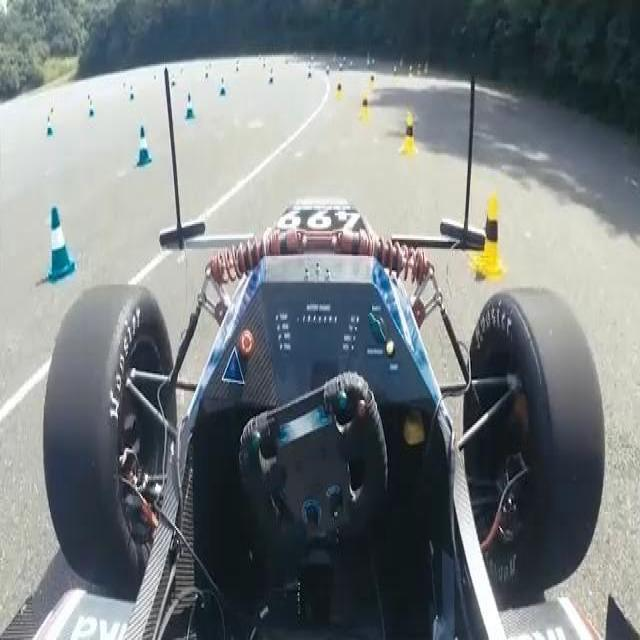blue_cone: (50, 199, 73, 280), (136, 124, 151, 166), (185, 92, 195, 122), (219, 78, 227, 100), (46, 115, 52, 138), (88, 100, 94, 118), (129, 85, 135, 102), (269, 66, 274, 84), (307, 62, 313, 77), (171, 74, 176, 88), (325, 62, 330, 75), (339, 62, 343, 73)
yellow_cone: (467, 190, 506, 282), (400, 112, 417, 156), (360, 94, 369, 119), (335, 82, 344, 104), (369, 73, 377, 90), (49, 106, 56, 124), (409, 62, 414, 78), (122, 80, 127, 95), (153, 73, 158, 88), (393, 66, 397, 82), (88, 90, 92, 104), (417, 62, 421, 76), (423, 60, 427, 74)
